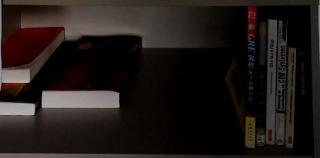book-spine: (113, 38, 146, 108), (263, 19, 278, 146), (245, 6, 258, 150), (274, 21, 288, 147), (296, 35, 309, 148), (256, 21, 267, 147), (285, 47, 298, 150)
